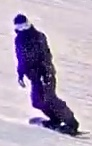snowboarder: (14, 14, 90, 138)
